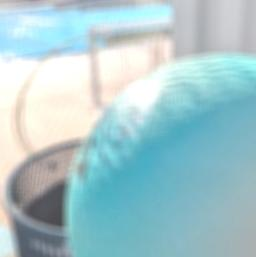algae: (73, 54, 256, 257)
